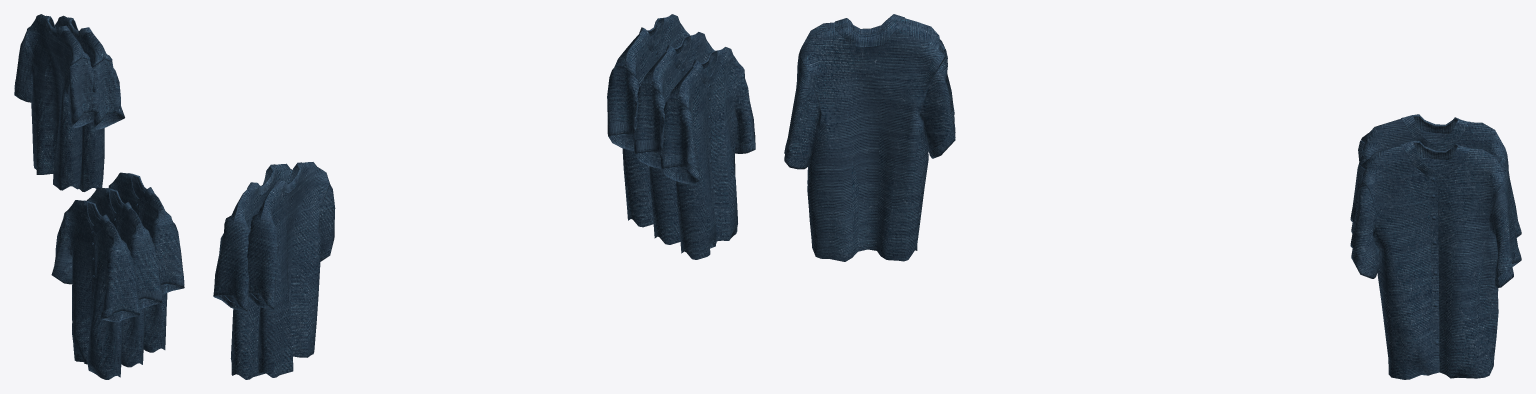
The model's file is yifu0901.fbx.
3 renders of one model, left to right at view 1: azimuth 30°, elevation 25°; view 2: azimuth 150°, elevation 25°; view 3: azimuth 270°, elevation 25°, orthographic. The views are drawn at different scales.
Visible parts, largest first — view 1: yifu0901; view 2: yifu0901; view 3: yifu0901.
Part boxes in pixels (x1,y1,x2,y2): yifu0901: (14,14,184,379); yifu0901: (213,14,755,379); yifu0901: (784,14,1521,379).
Bounding box in the file's own units: 125 × 97.16 × 253.
